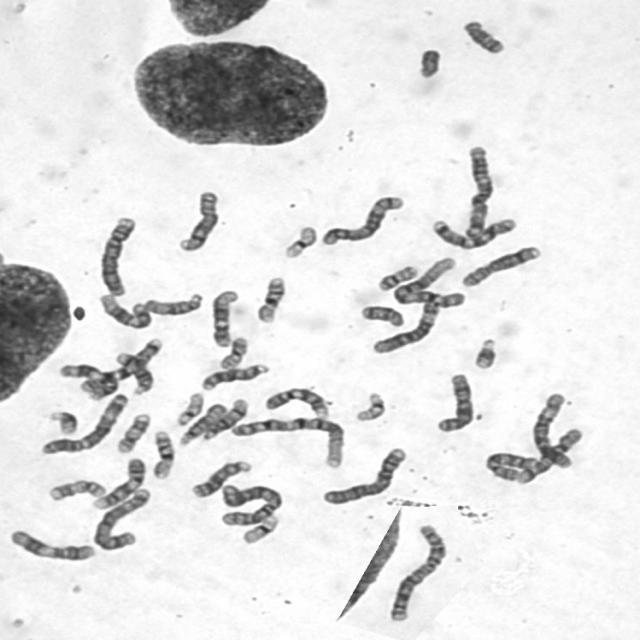A1: (230, 417, 345, 469), (392, 255, 466, 308)
A2: (386, 522, 452, 623), (221, 484, 282, 527)
A3: (41, 391, 128, 456), (463, 146, 494, 237)
B4: (322, 448, 407, 506), (99, 216, 139, 297)
B5: (321, 194, 404, 247), (93, 487, 153, 551)
C10: (516, 427, 583, 485), (483, 452, 538, 482)
C11: (9, 528, 96, 562), (59, 363, 119, 400)
C12: (96, 294, 153, 330), (211, 290, 241, 348)
C6: (370, 299, 441, 354), (532, 393, 574, 469)
C7: (79, 338, 166, 393), (431, 217, 517, 250)
C8: (461, 244, 542, 288), (177, 190, 219, 252)
C9: (91, 457, 146, 510), (262, 387, 329, 419)
D13: (190, 460, 253, 498), (201, 363, 272, 390)
D14: (202, 399, 250, 441), (112, 351, 154, 397)
D15: (178, 403, 229, 447), (144, 292, 202, 317)
E16: (255, 273, 288, 325), (149, 431, 177, 481)
E17: (115, 413, 152, 454), (48, 478, 107, 502)
E18: (459, 18, 510, 56), (359, 306, 406, 329)
F19: (240, 514, 280, 544), (284, 225, 318, 260)
F20: (376, 264, 421, 294), (219, 337, 248, 370)
G21: (472, 337, 497, 372), (46, 411, 80, 436)
G22: (354, 391, 390, 425), (174, 390, 205, 429)
X: (435, 373, 477, 434)
Y: (419, 48, 446, 82)
